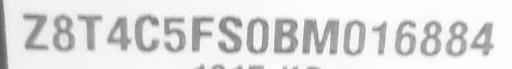letter: (300, 17, 340, 56), (18, 10, 50, 53), (74, 10, 104, 51), (104, 11, 134, 52), (214, 13, 244, 54), (269, 14, 299, 55), (160, 12, 188, 53), (134, 11, 160, 54), (244, 13, 270, 56), (468, 19, 498, 56), (340, 17, 368, 56), (390, 17, 418, 56), (50, 13, 76, 52), (188, 13, 214, 52), (418, 18, 444, 57), (444, 19, 468, 56), (368, 17, 390, 54)
